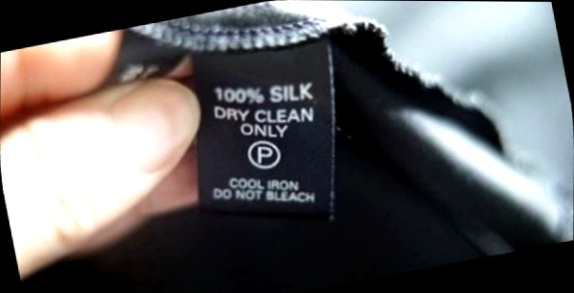dry_clean_any_solvent_except_trichloroethylene: (243, 132, 288, 175)
